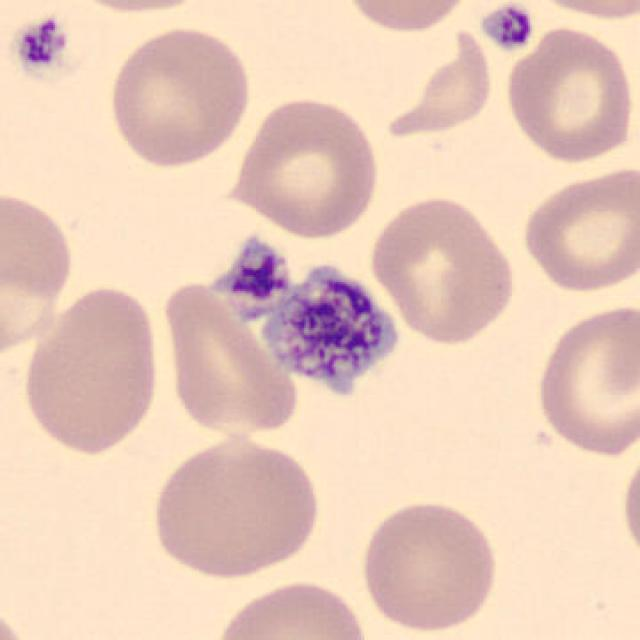Platelets: (258, 266, 398, 392), (212, 236, 295, 312), (11, 14, 69, 74), (478, 1, 537, 54)
RBC: (146, 432, 324, 582), (18, 280, 165, 460), (158, 273, 304, 441), (366, 190, 519, 348), (224, 92, 384, 240), (103, 21, 254, 173), (356, 496, 502, 636), (502, 21, 636, 166), (530, 300, 638, 460), (518, 164, 638, 296), (0, 182, 78, 362), (380, 23, 496, 143), (206, 576, 376, 640), (338, 0, 480, 35), (617, 438, 640, 570), (54, 0, 220, 16), (519, 0, 638, 21), (0, 599, 36, 640)
